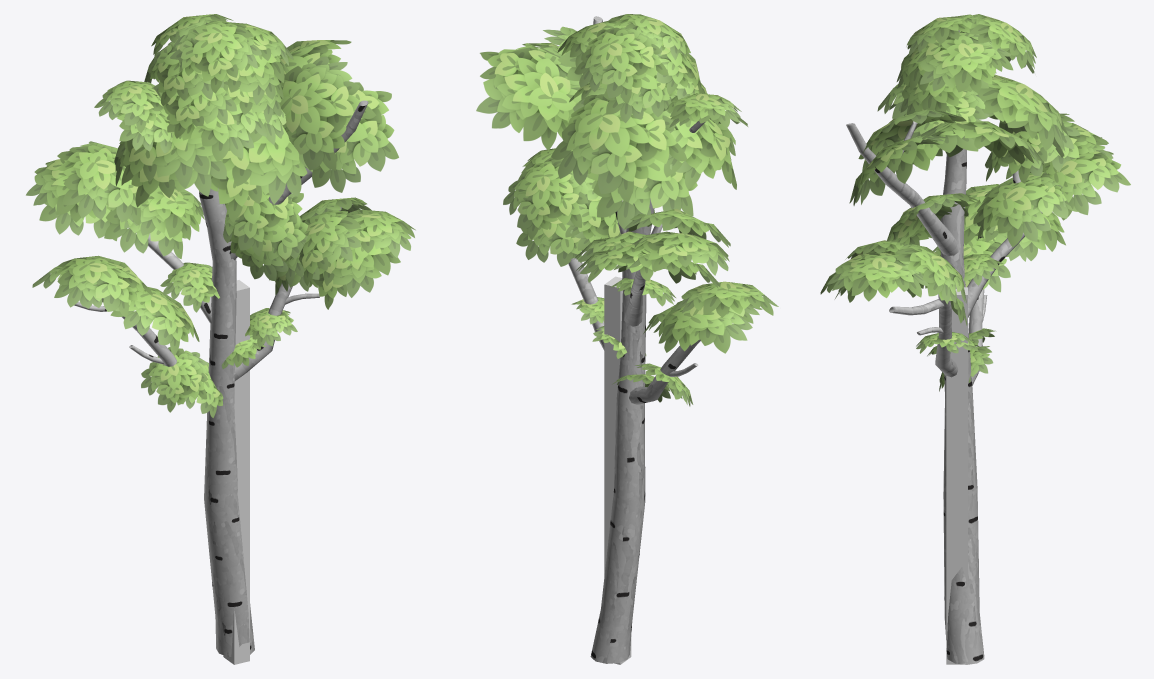
Rendered from birch_green2.glb.
The picture shows the model from 3 angles, left to right: view 1: azimuth 30°, elevation 25°; view 2: azimuth 150°, elevation 25°; view 3: azimuth 270°, elevation 25°; orthographic projection.
Visible parts, largest first — view 1: Birch_1.001, Cube.002; view 2: Birch_1.001, Cube.002; view 3: Birch_1.001, Cube.002.
Part boxes in pixels (x1,y1,x2,y2): Birch_1.001: (26,14,415,656); Cube.002: (223,280,249,664); Birch_1.001: (476,14,778,663); Cube.002: (604,276,631,664); Birch_1.001: (820,14,1130,664); Cube.002: (946,287,967,664).
Bounding box in the file's own units: 11.14 × 21.77 × 10.16.
Materials: 2 (2 with a texture image).
